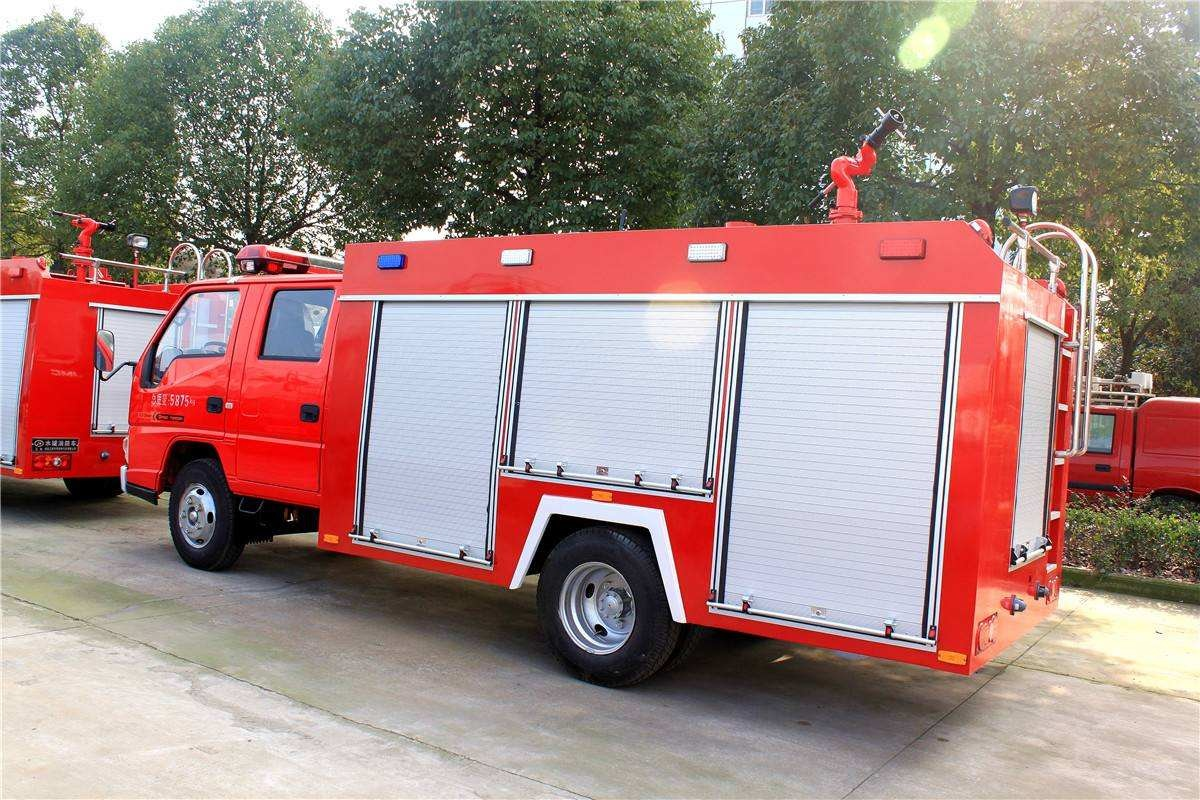fire engine: (142, 231, 1103, 691)
